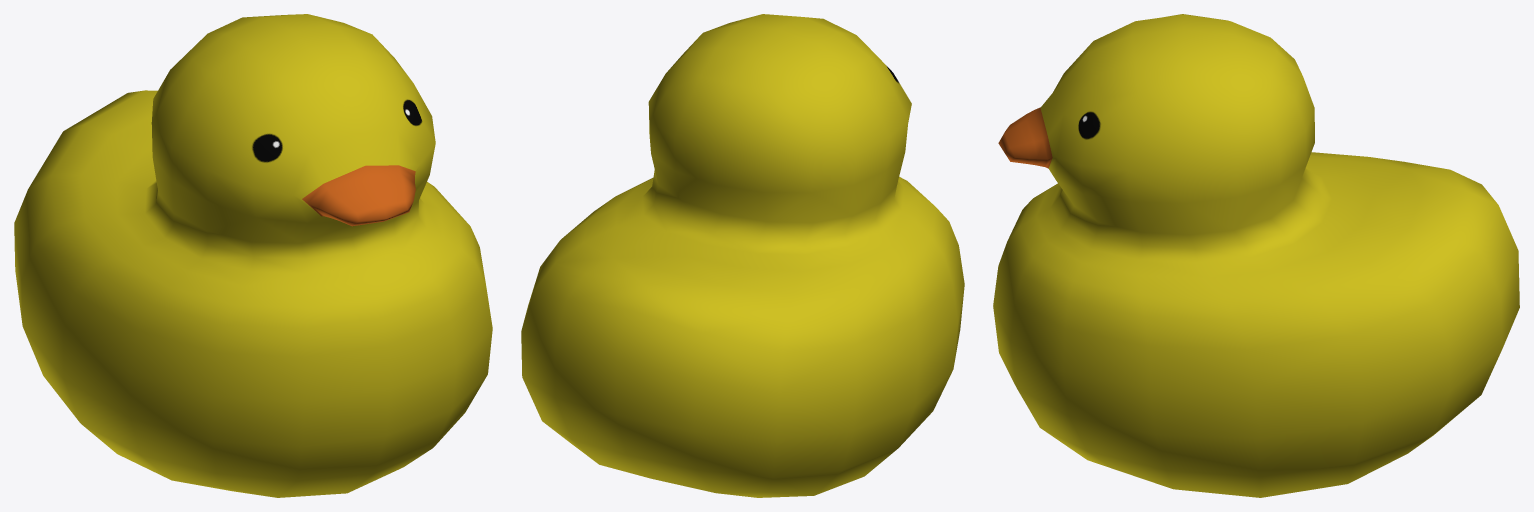
File: ahiru.fbx
The picture shows the model from 3 angles, left to right: view 1: azimuth 30°, elevation 25°; view 2: azimuth 150°, elevation 25°; view 3: azimuth 270°, elevation 25°; orthographic projection. The views are drawn at different scales.
Parts seen in each view (by area): view 1: pCube1; view 2: pCube1; view 3: pCube1.
Boxes of the visible parts, x1=… form: pCube1: x1=14, y1=14, x2=492, y2=497; pCube1: x1=521, y1=14, x2=964, y2=497; pCube1: x1=993, y1=14, x2=1519, y2=497.
Size of the model in its own units: 1.5 by 1.69 by 1.86.
